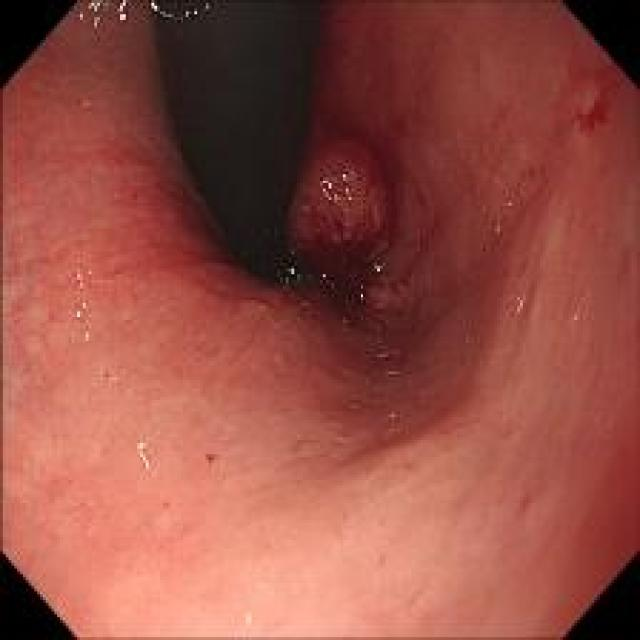blood: (268, 196, 408, 348)
contrast: (145, 8, 349, 300)
instrument: (142, 1, 331, 276)
specularity: (71, 0, 215, 28), (319, 171, 358, 202), (281, 264, 311, 294), (371, 260, 398, 286), (351, 280, 372, 306)
